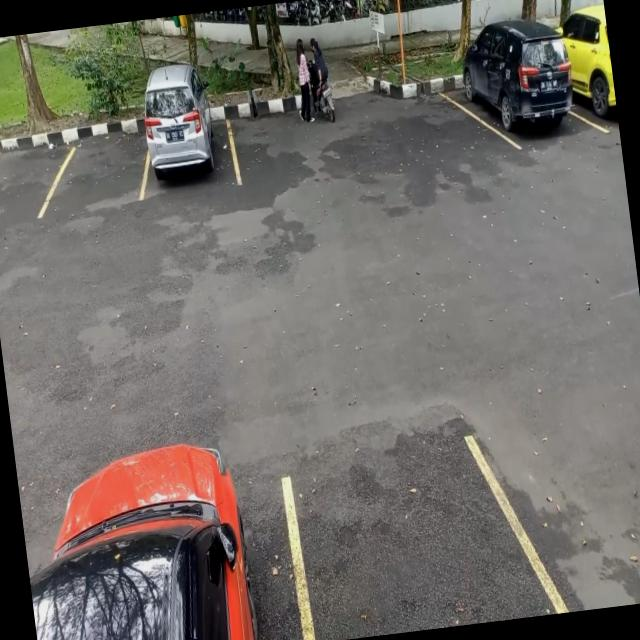car: (460, 38, 584, 154), (137, 88, 239, 196)
free: (284, 431, 551, 640), (485, 379, 640, 612), (48, 115, 153, 214), (0, 124, 63, 227)
